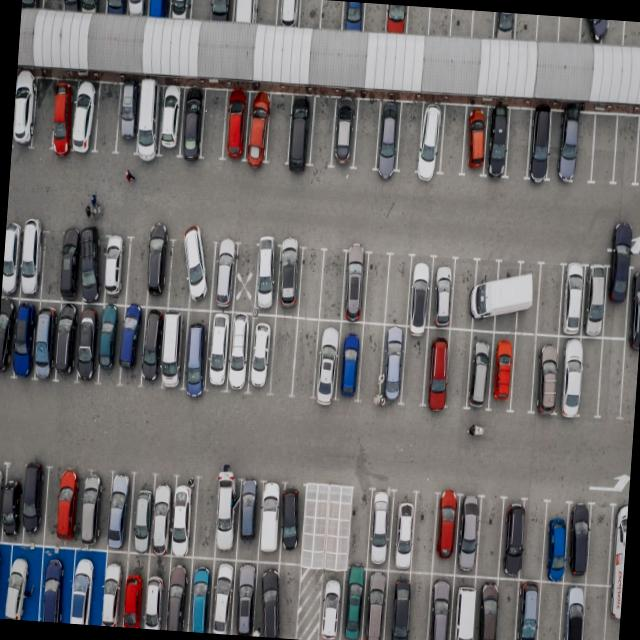car: (554, 334, 592, 416), (64, 549, 102, 625), (0, 542, 37, 620), (181, 232, 217, 312), (180, 309, 214, 391), (36, 548, 72, 623), (202, 310, 234, 392), (156, 307, 188, 389), (245, 314, 278, 392), (76, 470, 109, 548), (601, 260, 632, 343), (532, 336, 564, 416), (220, 312, 252, 392), (14, 461, 46, 540), (118, 304, 149, 385), (208, 237, 241, 313), (363, 487, 393, 569), (430, 490, 460, 572), (312, 316, 342, 398), (210, 476, 240, 558), (414, 104, 447, 178), (204, 556, 236, 632), (184, 556, 216, 632), (454, 493, 484, 574), (8, 298, 38, 379), (51, 467, 82, 545), (466, 330, 496, 410), (334, 319, 364, 399), (388, 490, 418, 570), (526, 108, 558, 183), (553, 109, 585, 184), (168, 479, 199, 556), (374, 323, 404, 402), (557, 262, 589, 336), (491, 258, 523, 332), (254, 238, 285, 314), (119, 550, 149, 628), (99, 548, 129, 626), (459, 105, 491, 178), (133, 83, 164, 158), (423, 328, 452, 408), (96, 302, 125, 382), (106, 472, 135, 552), (497, 498, 526, 578), (161, 553, 191, 630), (404, 256, 436, 328), (236, 478, 264, 560), (153, 84, 184, 158), (75, 230, 106, 304), (139, 556, 170, 630), (53, 301, 82, 380), (76, 303, 105, 382), (580, 261, 610, 337), (487, 330, 516, 408), (542, 506, 572, 581), (472, 256, 502, 331), (328, 97, 359, 169), (220, 90, 250, 164), (273, 242, 303, 316), (482, 108, 512, 182), (511, 260, 541, 334), (139, 307, 167, 386), (256, 482, 285, 558), (15, 223, 44, 299), (232, 558, 261, 634), (252, 560, 281, 636), (374, 101, 404, 174), (284, 94, 314, 167), (178, 88, 208, 161), (70, 80, 100, 153), (126, 474, 154, 552), (449, 574, 482, 640), (102, 235, 133, 305), (242, 92, 272, 164), (426, 257, 456, 328), (147, 478, 175, 554), (358, 567, 387, 640), (425, 572, 456, 640), (318, 570, 348, 640), (31, 301, 58, 378), (382, 569, 411, 640), (49, 78, 76, 154), (276, 488, 303, 564), (340, 253, 370, 321), (564, 506, 590, 584), (144, 234, 172, 306), (336, 569, 364, 640), (115, 84, 143, 154), (12, 74, 38, 148), (513, 578, 543, 640), (1, 465, 26, 539), (555, 580, 584, 640), (471, 578, 499, 640), (607, 502, 628, 584), (1, 222, 24, 296), (59, 230, 83, 300), (602, 582, 622, 640), (626, 263, 640, 342), (580, 18, 622, 44), (0, 297, 14, 375), (384, 3, 410, 34), (275, 0, 303, 27), (338, 1, 364, 30), (494, 12, 518, 40), (229, 0, 255, 23), (208, 0, 234, 22), (145, 0, 171, 19), (166, 0, 192, 18), (0, 467, 6, 544), (77, 0, 105, 14), (105, 0, 130, 15), (124, 0, 147, 16), (21, 0, 44, 10), (60, 0, 80, 11)
free: (266, 314, 298, 394), (190, 478, 221, 560), (596, 338, 628, 416), (507, 333, 538, 412), (502, 105, 534, 181), (270, 562, 302, 638), (442, 328, 472, 409), (290, 316, 320, 396), (409, 492, 438, 574), (355, 323, 385, 402), (265, 90, 296, 166), (436, 104, 468, 177), (475, 498, 504, 578), (400, 327, 430, 404), (199, 88, 230, 162), (228, 238, 258, 314), (400, 570, 432, 640), (344, 491, 372, 571), (307, 96, 338, 168), (448, 259, 479, 331), (352, 97, 382, 171), (534, 264, 564, 338), (394, 102, 424, 176), (293, 249, 324, 320), (577, 337, 604, 417), (520, 503, 547, 582), (316, 251, 346, 322), (382, 256, 412, 327), (94, 83, 124, 154), (570, 110, 598, 186), (360, 254, 390, 324), (586, 506, 612, 586), (31, 79, 59, 153), (166, 235, 194, 308), (590, 114, 618, 186), (613, 114, 640, 187), (125, 235, 153, 305), (534, 579, 565, 640), (39, 228, 64, 298), (41, 468, 63, 546), (493, 579, 521, 640), (581, 582, 610, 640), (302, 491, 324, 567), (619, 340, 639, 418), (404, 5, 430, 36), (318, 0, 344, 31), (362, 2, 387, 33), (450, 8, 475, 38), (471, 10, 496, 39), (297, 0, 322, 29), (428, 7, 452, 37), (534, 15, 560, 42), (555, 16, 581, 42), (513, 12, 537, 40), (254, 0, 279, 25), (189, 0, 214, 21), (620, 20, 640, 46), (634, 115, 640, 185), (42, 0, 66, 11)
